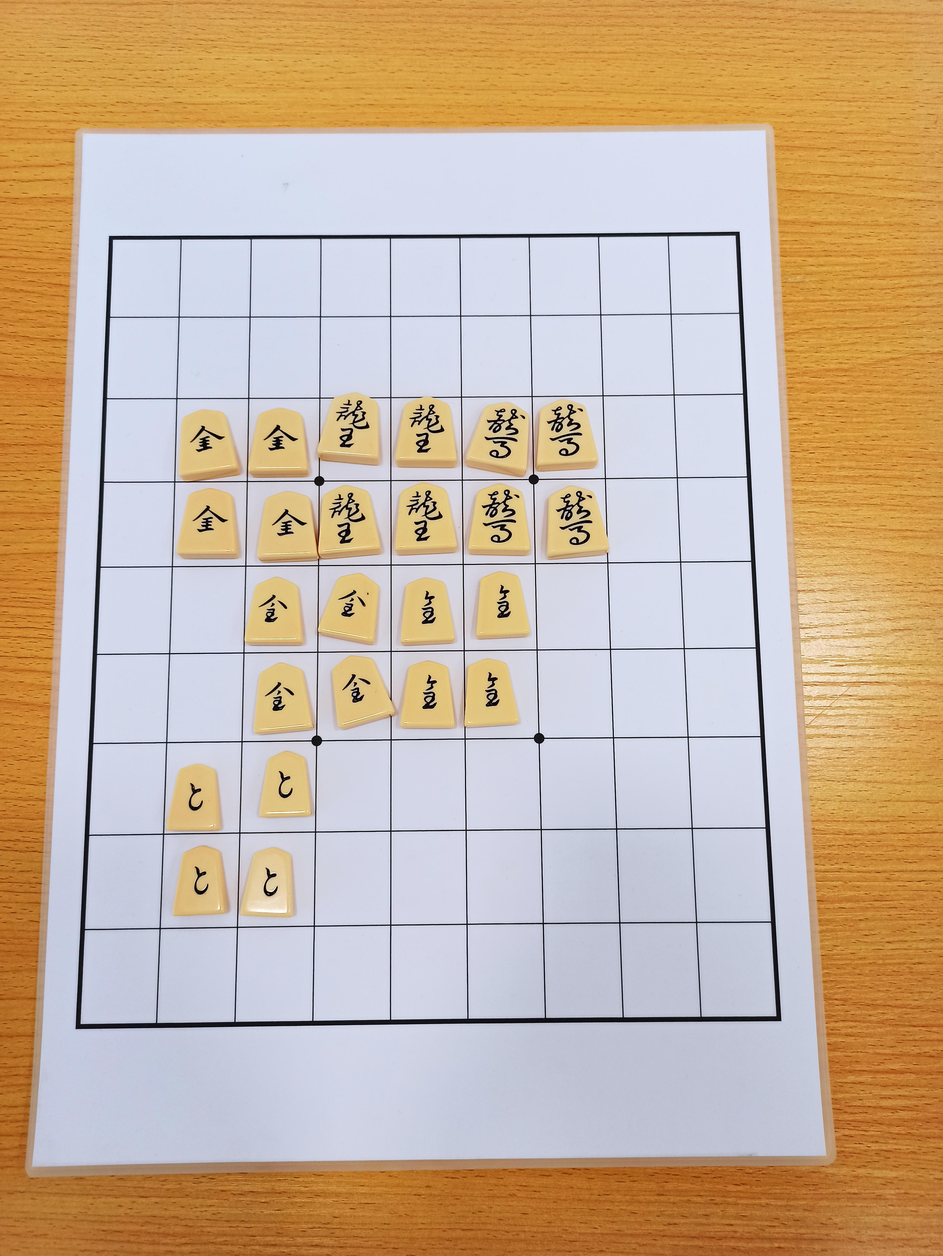board: (79, 236, 776, 1024)
